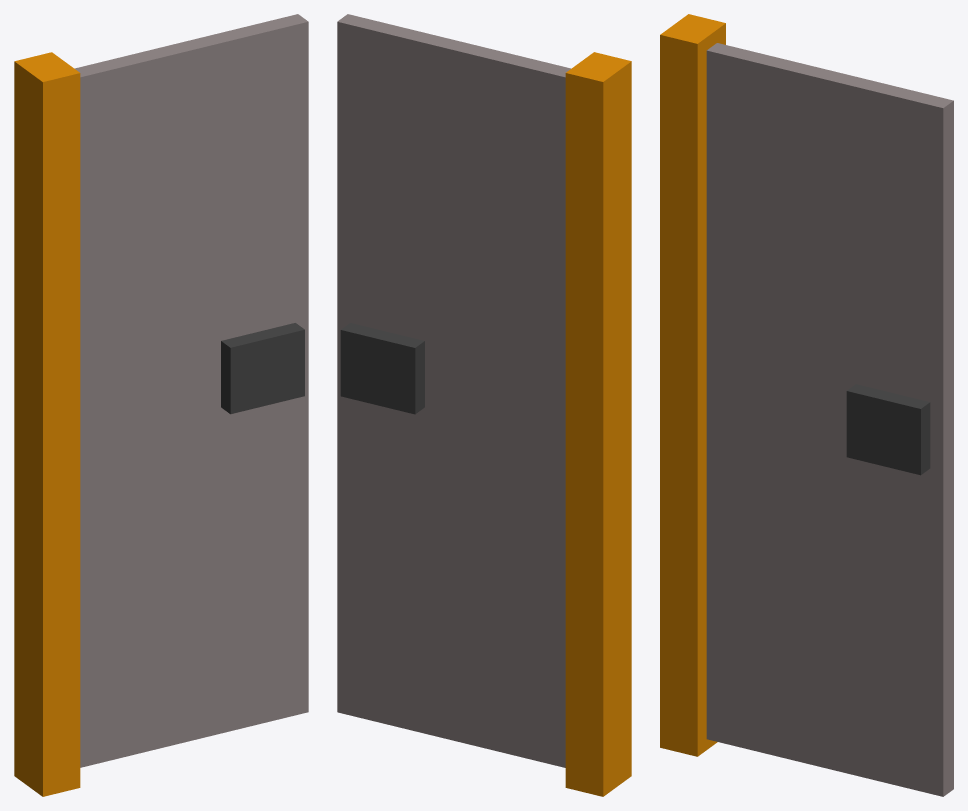
File: Door.fbx
3 views of the same model, side by side, from view 1: azimuth 30°, elevation 25°; view 2: azimuth 150°, elevation 25°; view 3: azimuth 330°, elevation 25° (orthographic).
Parts seen in each view (by area): view 1: Door, Door Frame, Handle; view 2: Door, Door Frame, Handle; view 3: Door, Door Frame, Handle.
Boxes of the visible parts, x1,y1,x2,y2 form: Door: (74,14,308,767); Door Frame: (14,52,80,796); Handle: (221,323,304,414); Door: (337,14,570,767); Door Frame: (565,52,631,796); Handle: (340,323,424,414); Door: (706,43,953,796); Door Frame: (660,14,725,756); Handle: (846,384,930,475).
Size of the model in its own units: 230 by 572 by 43.01.
